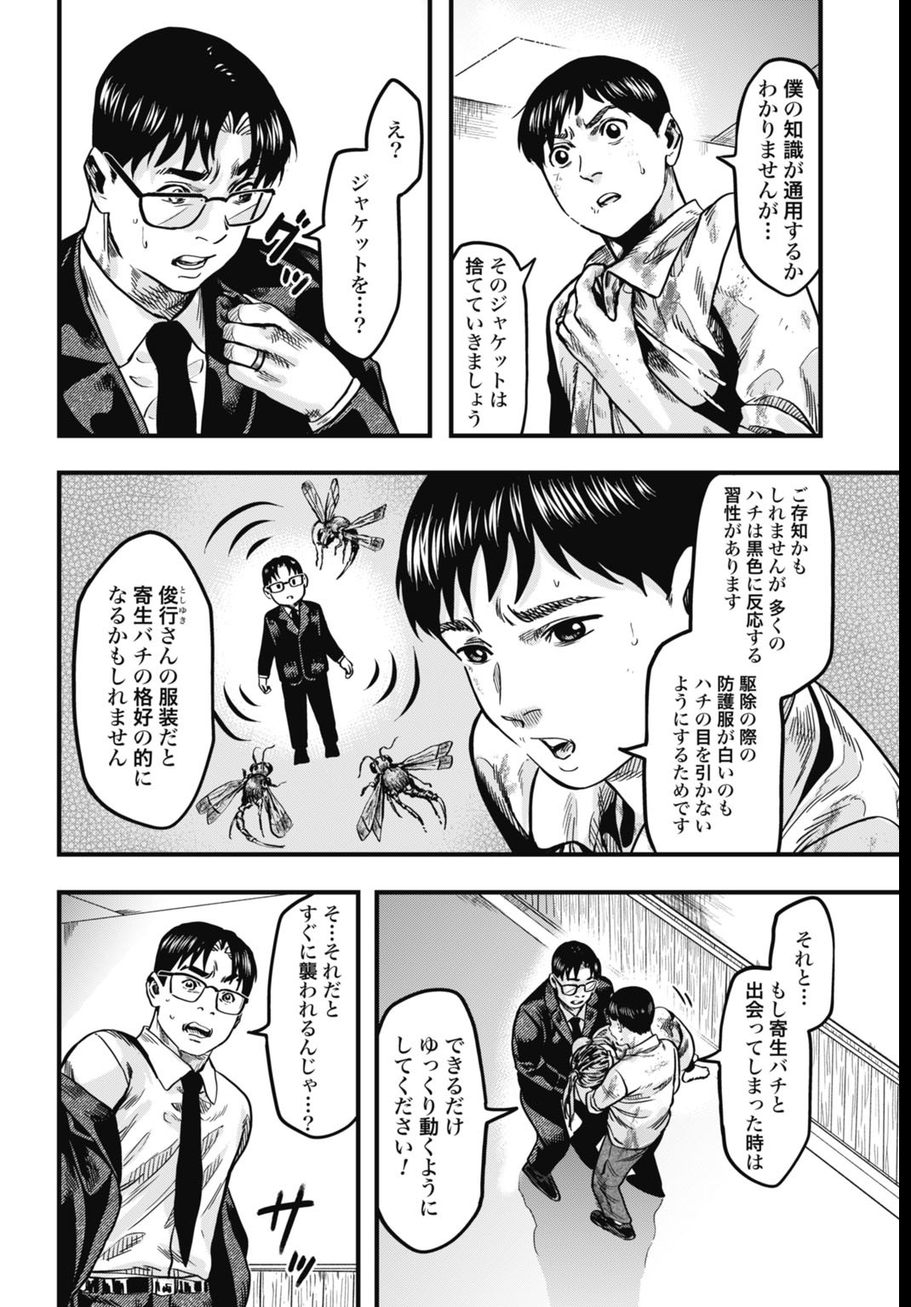bubbles: (616, 476, 845, 856), (71, 527, 219, 836), (691, 893, 837, 1195), (375, 989, 524, 1265), (300, 72, 423, 367), (709, 49, 821, 300), (248, 895, 358, 1146), (449, 233, 554, 435)
